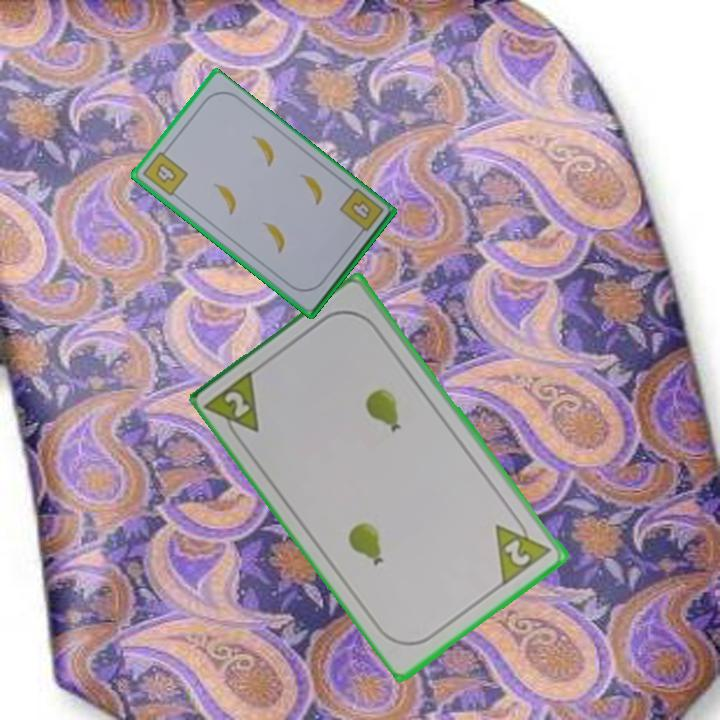2p: (491, 509, 555, 588), (203, 365, 263, 447)
4b: (139, 144, 191, 200), (336, 185, 386, 241)
